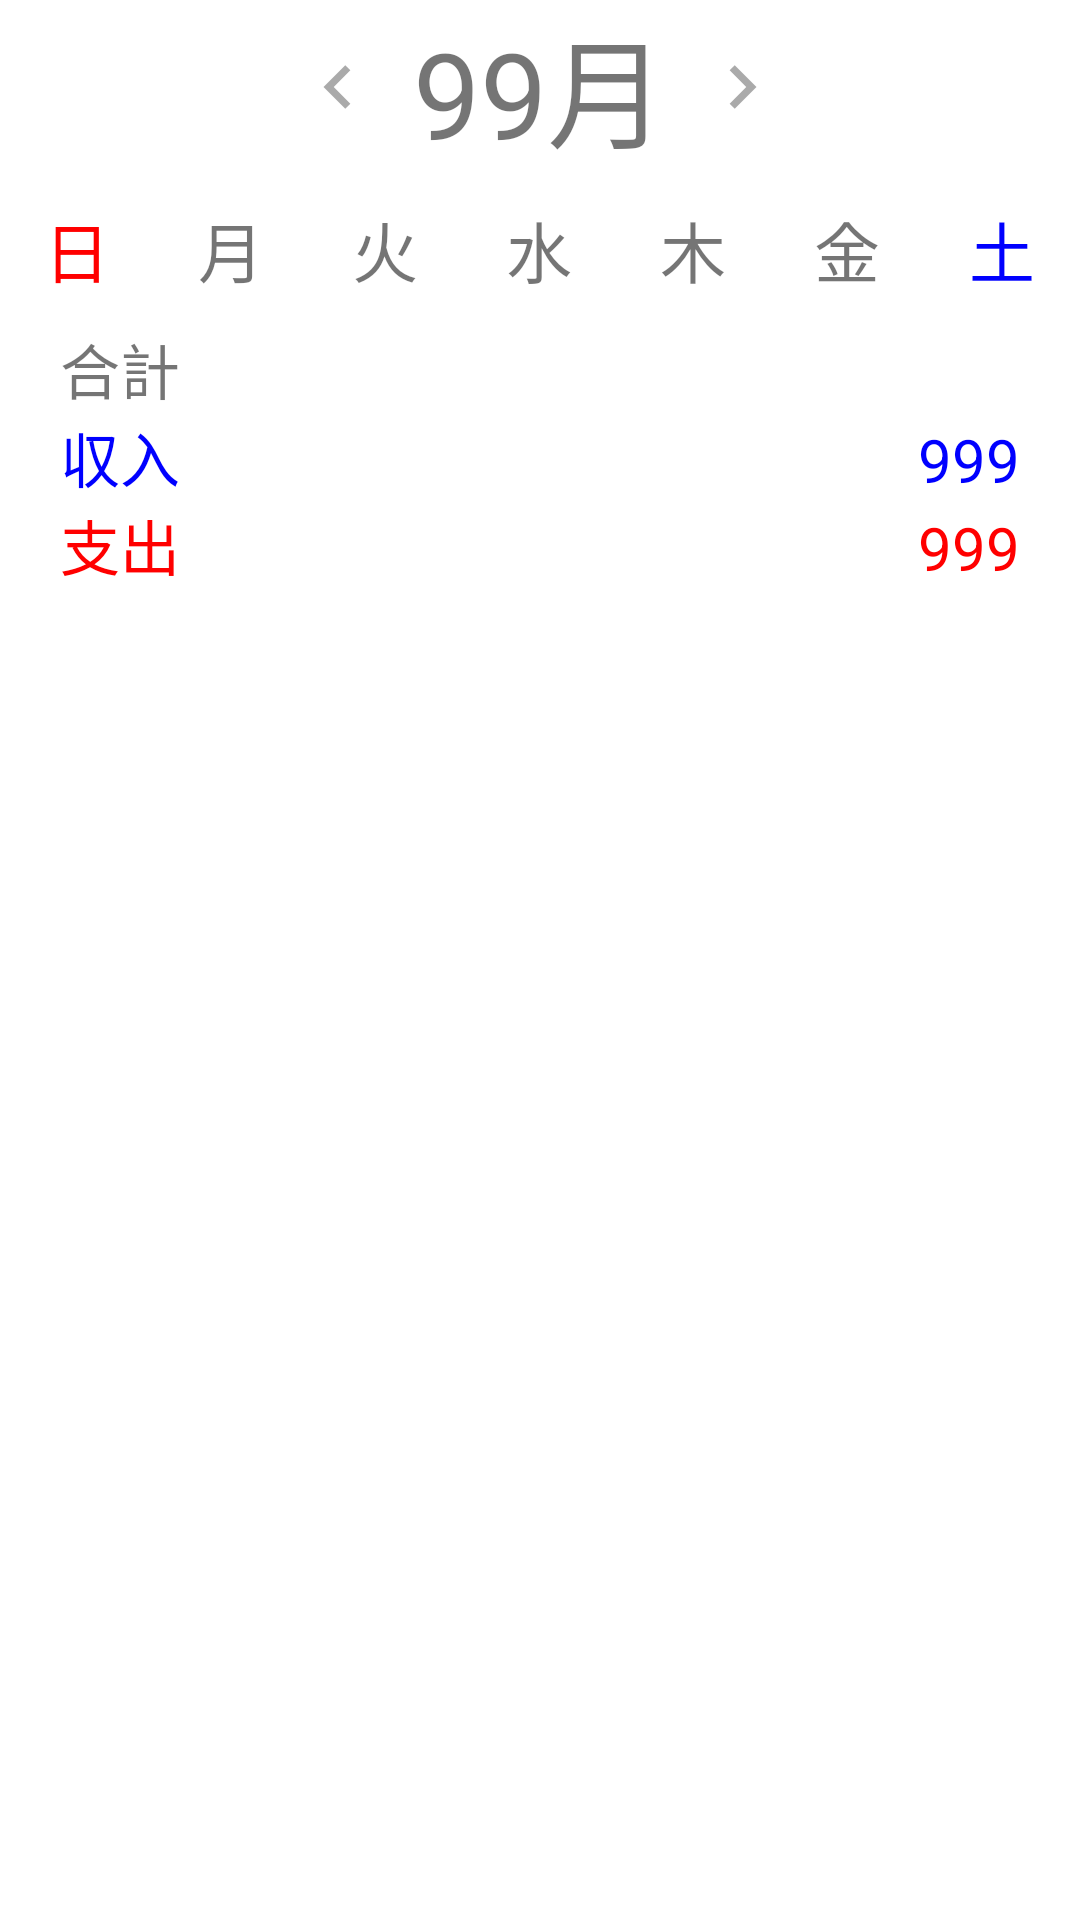

Screen size 1080 × 1920. Icon name, then its center in pixels as (x,y):
left arrow: (337,87)
right arrow: (743,87)
